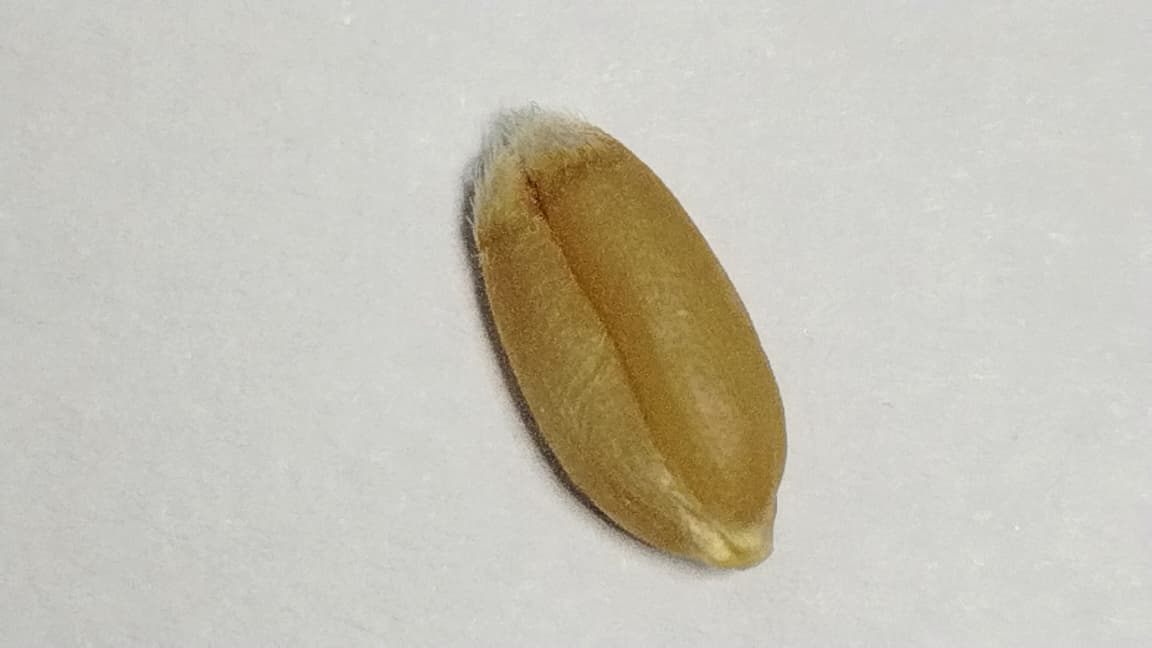healthy: (474, 112, 784, 566)
